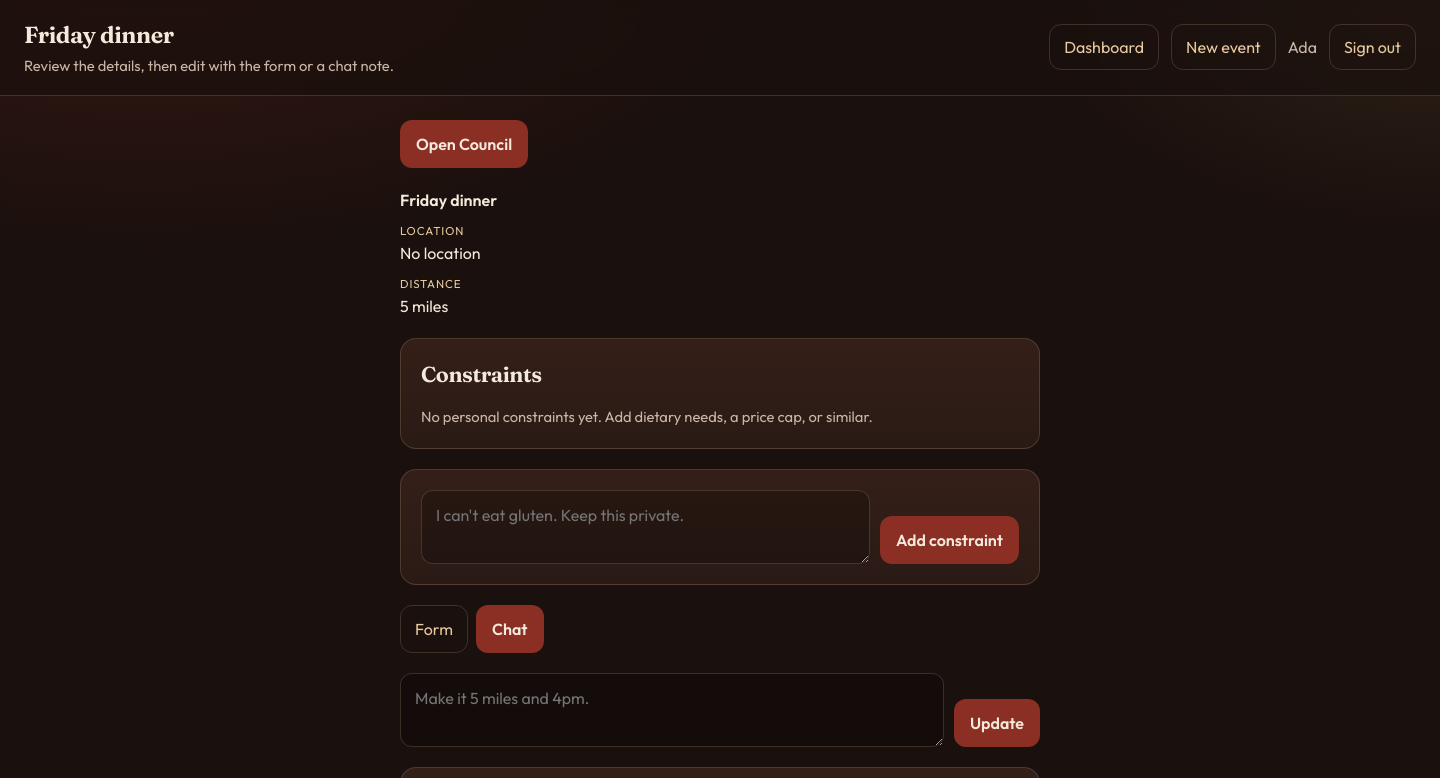
Test: event details edit mode › still lets the host switch to the Form editor
Expected: the text box with placeholder "Make it 5 miles and 4pm." is shown, [400,673,944,747]
Click the button "Form" at (434, 629), box [400,605,468,653]
(page scrolled)
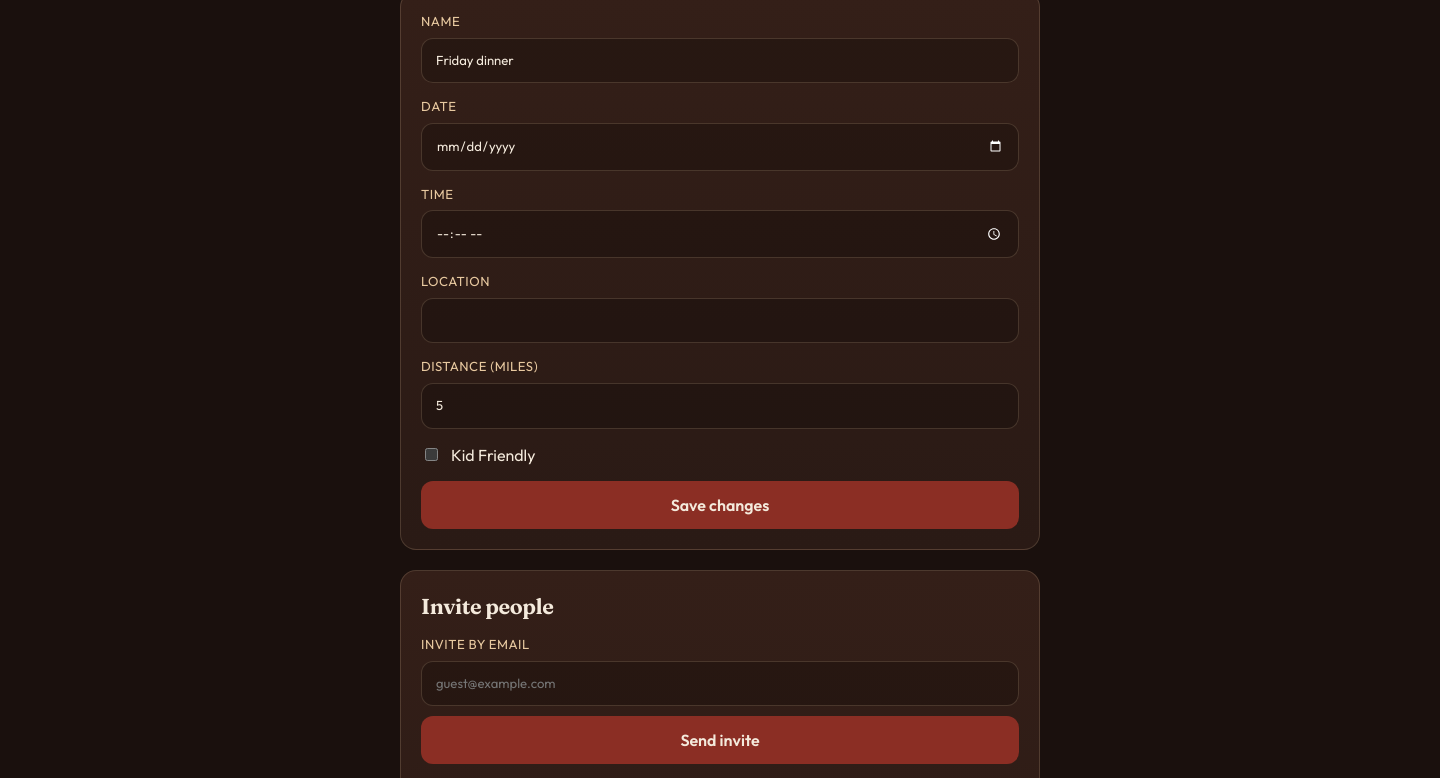
Expected: the field with placeholder "Make it 5 miles and 4pm." is not shown
Expected: the number field labelled "Distance (miles)" is shown, [421,383,1019,429]
